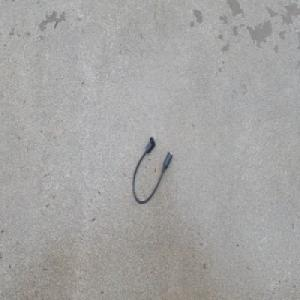Wire: (131, 134, 173, 204)
